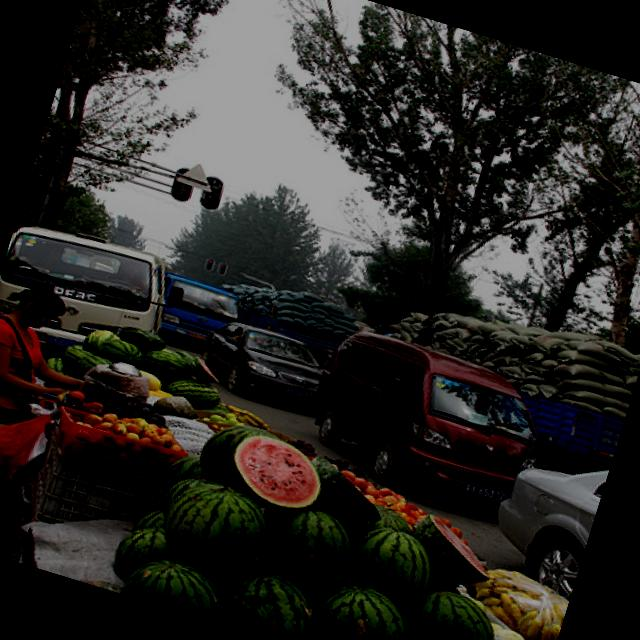Vehicle: (290, 314, 562, 523), (0, 211, 192, 384), (466, 421, 614, 614), (0, 212, 184, 352), (200, 264, 366, 374), (189, 310, 341, 422), (489, 381, 625, 488), (150, 272, 242, 348)
